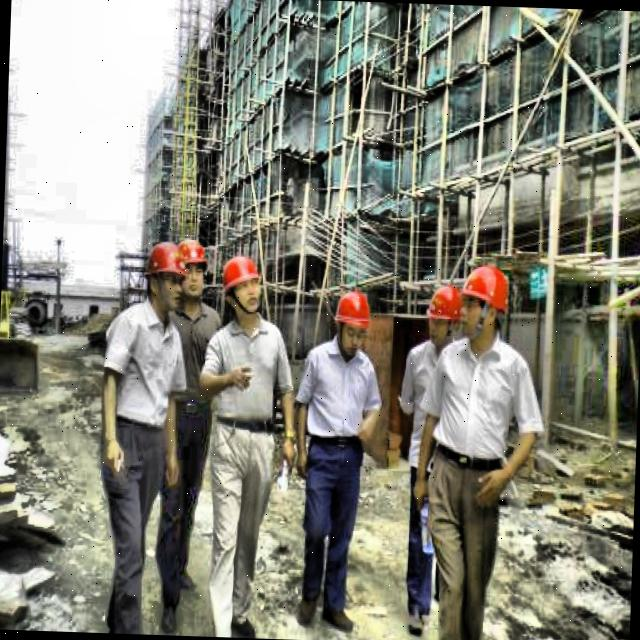helmet: (458, 262, 508, 346), (216, 250, 267, 320), (141, 236, 187, 312), (330, 287, 371, 355), (422, 284, 462, 352), (176, 237, 209, 298)
